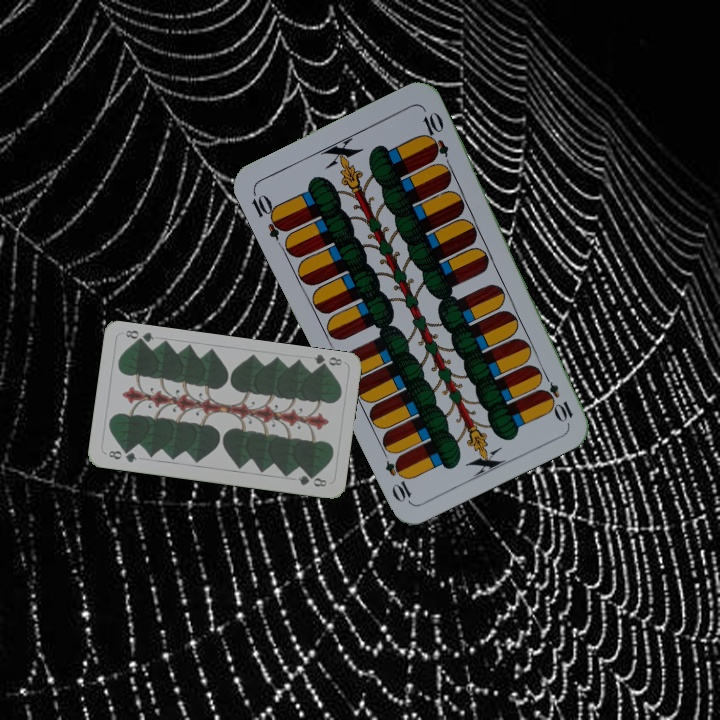E10: (247, 187, 290, 242), (537, 368, 576, 424)
G8: (310, 351, 344, 372), (104, 446, 139, 465)
